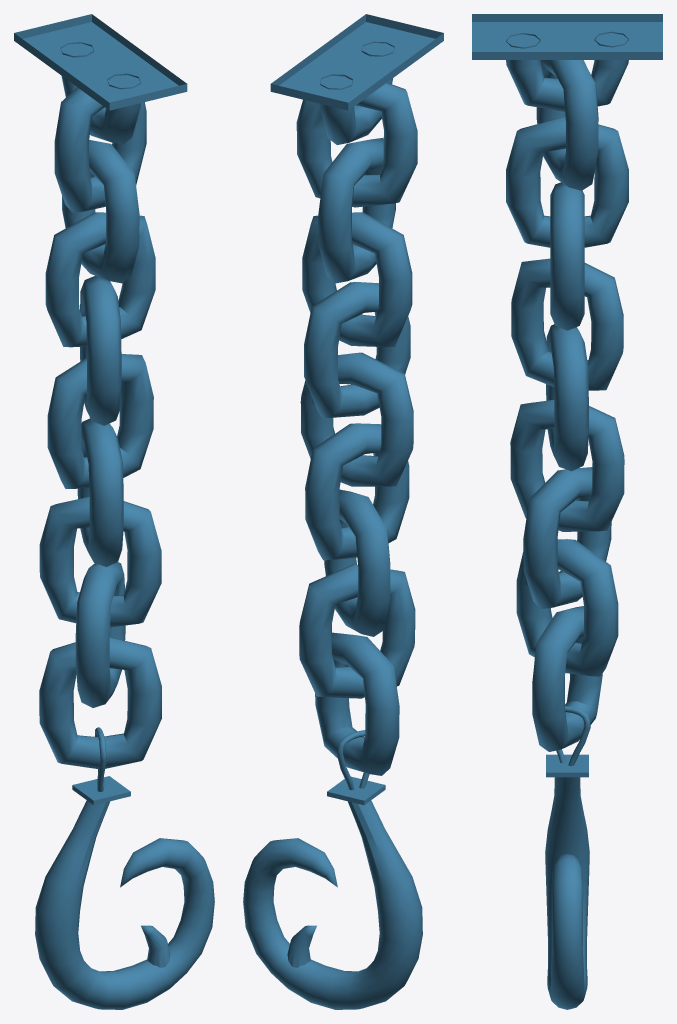
The model's file is Mesh_Colgante_v001.fbx.
3 views of the same model, side by side, from view 1: azimuth 30°, elevation 25°; view 2: azimuth 150°, elevation 25°; view 3: azimuth 270°, elevation 25° (orthographic).
Parts seen in each view (by area): view 1: Mesh_Colgante_v001; view 2: Mesh_Colgante_v001; view 3: Mesh_Colgante_v001.
Boxes of the visible parts, left/top/right/bottom form: Mesh_Colgante_v001: left=14, top=14, right=214, bottom=1009; Mesh_Colgante_v001: left=243, top=14, right=443, bottom=1009; Mesh_Colgante_v001: left=472, top=14, right=662, bottom=1009.
Bounding box in the file's own units: 0.7832 × 4.09 × 0.74.
